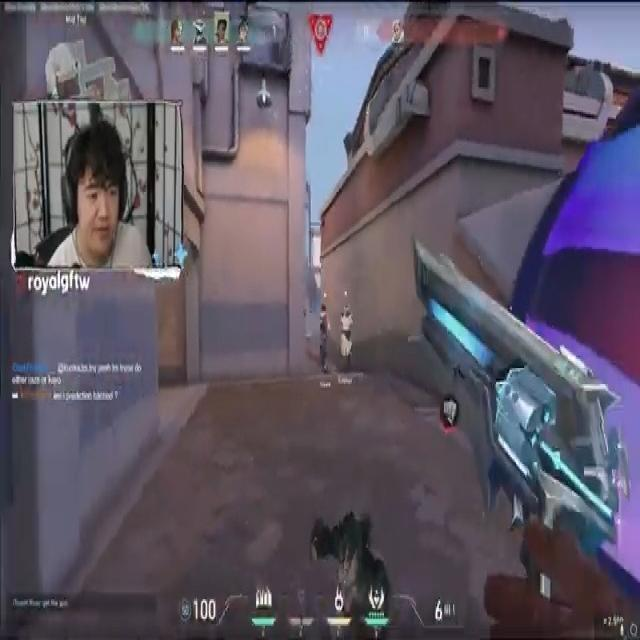ally: (336, 298, 358, 372), (316, 307, 334, 368)
